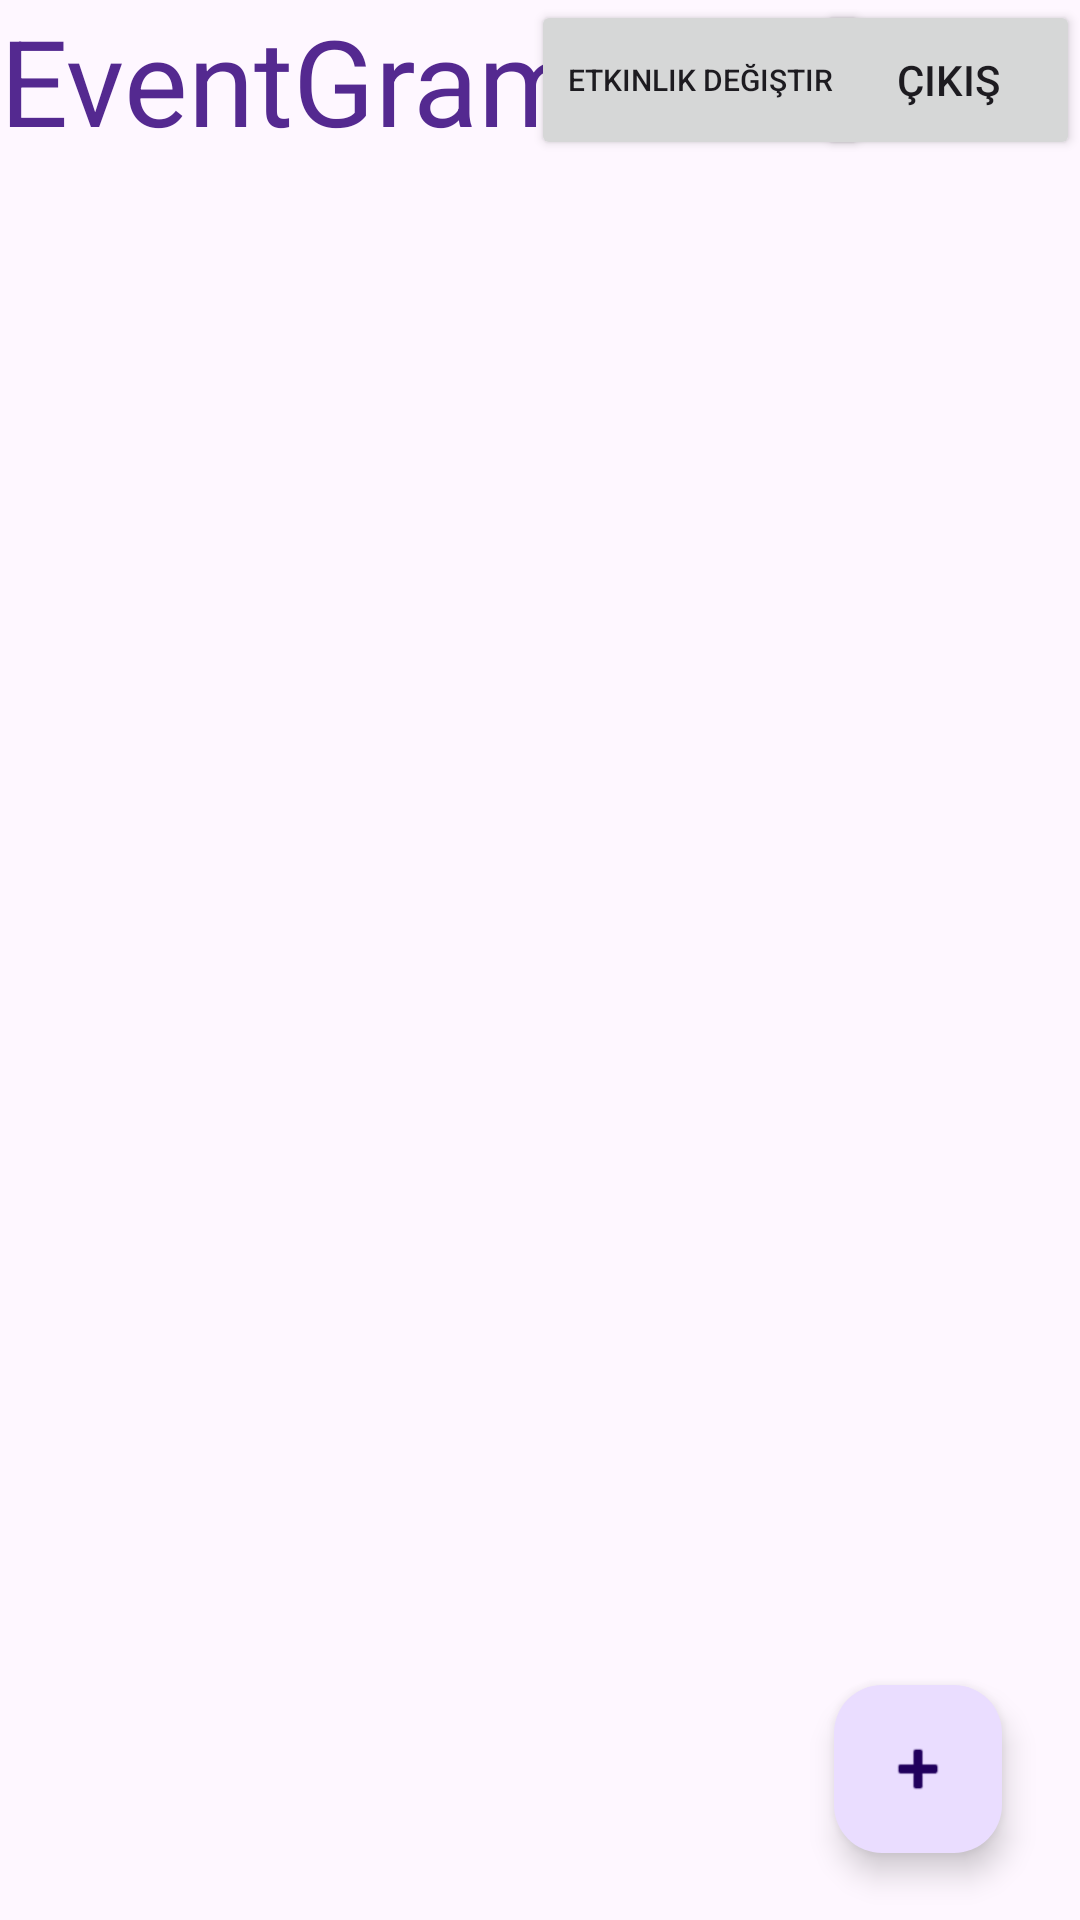

Point at icon controls on the screen. Image size 1080×1920, points as [x,y].
add: [918,1769]
